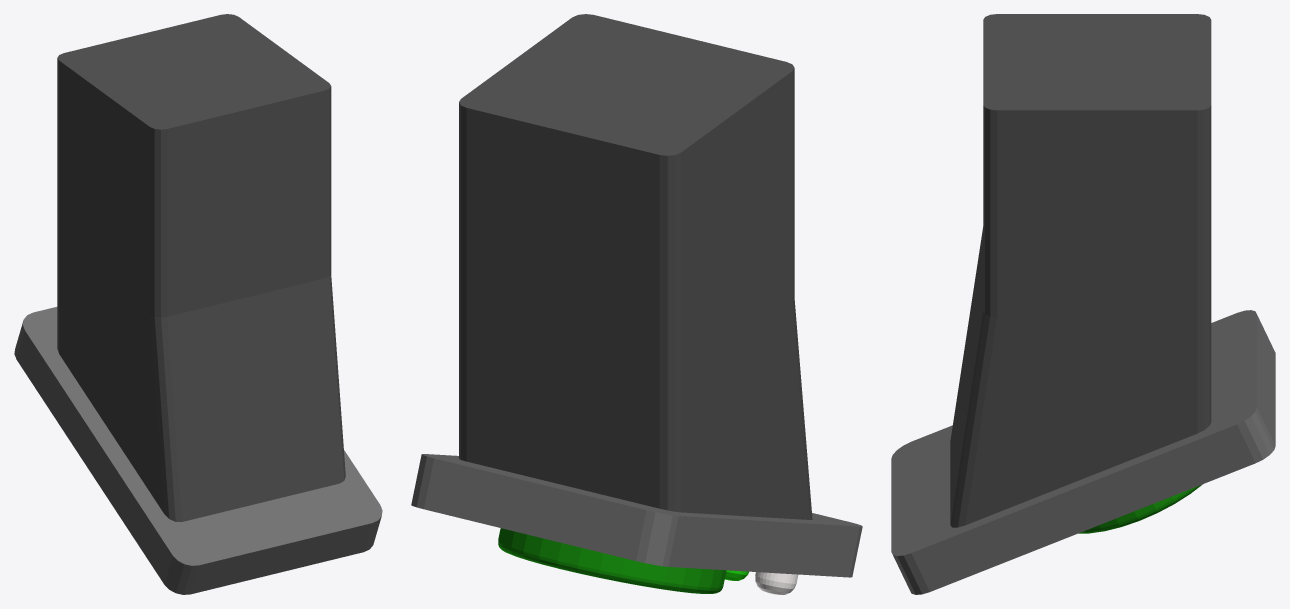
Rendered from FBX_INT_Bedienfeld 1.fbx.
3 renders of one model, left to right at view 1: azimuth 30°, elevation 25°; view 2: azimuth 150°, elevation 25°; view 3: azimuth 270°, elevation 25°, orthographic. The views are drawn at different scales.
Parts seen in each view (by area): view 1: Cube.002, Hauptkörper.002; view 2: Cube.002, Hauptkörper.002, Button.002, rot.002; view 3: Cube.002, Hauptkörper.002, Button.002.
Boxes of the visible parts, x1,y1,x2,y2 form: Cube.002: [57, 14, 345, 521]; Hauptkörper.002: [14, 307, 382, 594]; Cube.002: [459, 14, 812, 519]; Hauptkörper.002: [411, 454, 862, 577]; Button.002: [498, 528, 726, 593]; rot.002: [755, 572, 798, 594]; Cube.002: [950, 14, 1211, 527]; Hauptkörper.002: [891, 310, 1275, 594]; Button.002: [1078, 484, 1202, 533].
Size of the model in its own units: 132 by 267 by 193.
